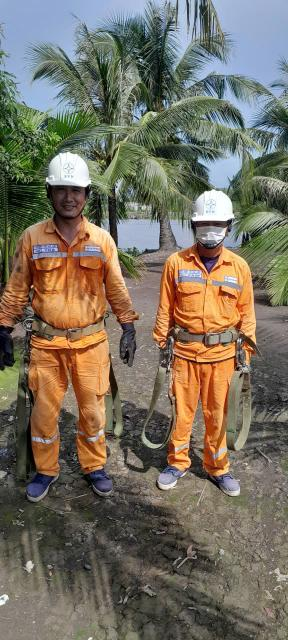gloves: (104, 316, 147, 368), (0, 318, 21, 373)
harness: (11, 309, 117, 349), (164, 316, 248, 354)
helmet: (39, 151, 95, 191), (184, 189, 240, 224)
shoes: (24, 461, 65, 508), (75, 462, 119, 492), (210, 461, 243, 499), (154, 458, 187, 492)
